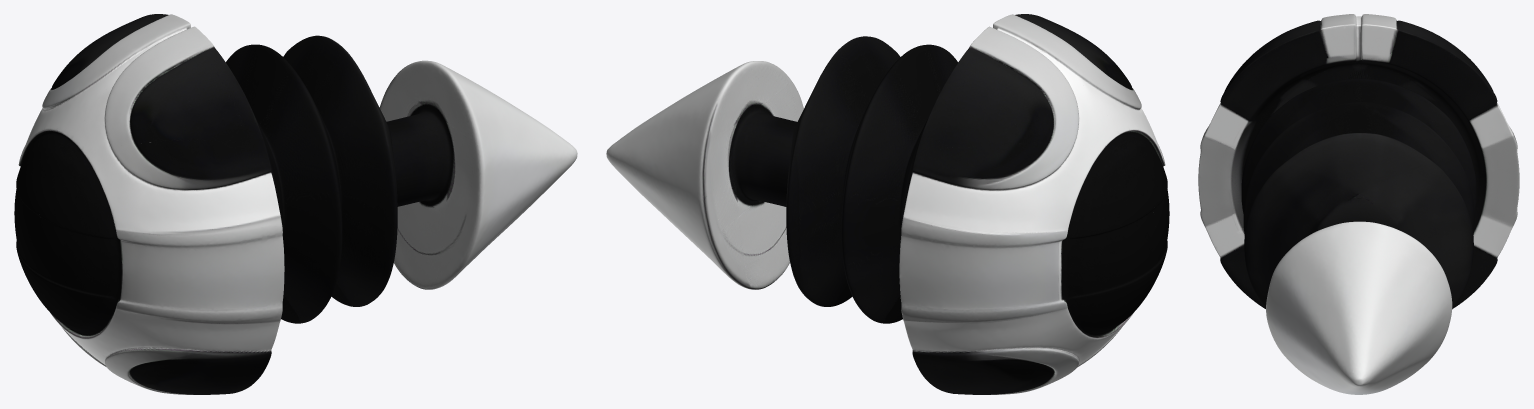
The model's file is Meshy_AI_Abstract_Screw_0720171028_texture.fbx.
The picture shows the model from 3 angles, left to right: view 1: azimuth 30°, elevation 25°; view 2: azimuth 150°, elevation 25°; view 3: azimuth 270°, elevation 25°; orthographic projection. The views are drawn at different scales.
Parts seen in each view (by area): view 1: Mesh_0; view 2: Mesh_0; view 3: Mesh_0.
Part boxes in pixels (x1,y1,x2,y2): Mesh_0: (14, 14, 577, 394); Mesh_0: (606, 14, 1169, 394); Mesh_0: (1198, 14, 1519, 394).
Bounding box in the file's own units: 190 × 120 × 111.
1 material, 1 textured.
